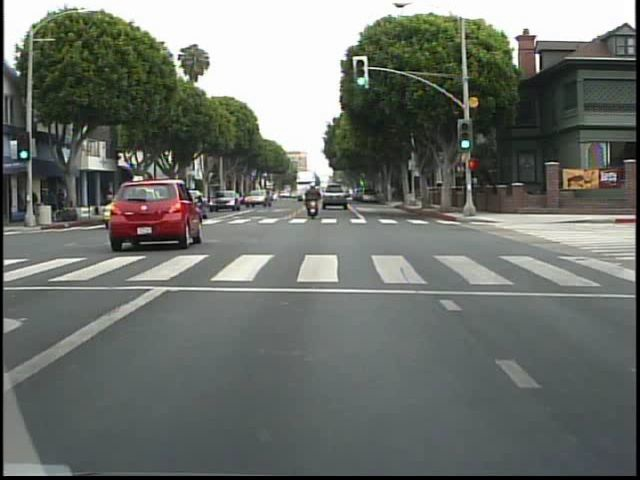person: (304, 178, 326, 223)
